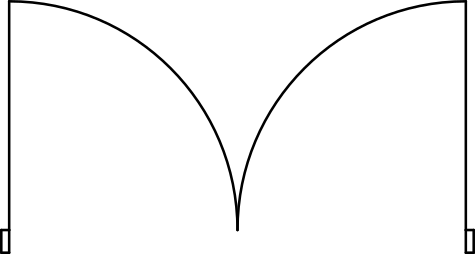door: (5, 1, 471, 225)
